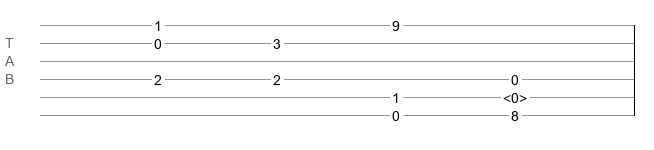0: (154, 36, 162, 46), (392, 108, 400, 118), (511, 72, 519, 82)
1: (154, 18, 162, 28), (392, 90, 400, 100)
2: (154, 72, 162, 82), (273, 72, 281, 82)
3: (273, 36, 281, 46)
8: (511, 108, 519, 118)
9: (392, 18, 400, 28)
harmonic: (503, 90, 527, 100)
